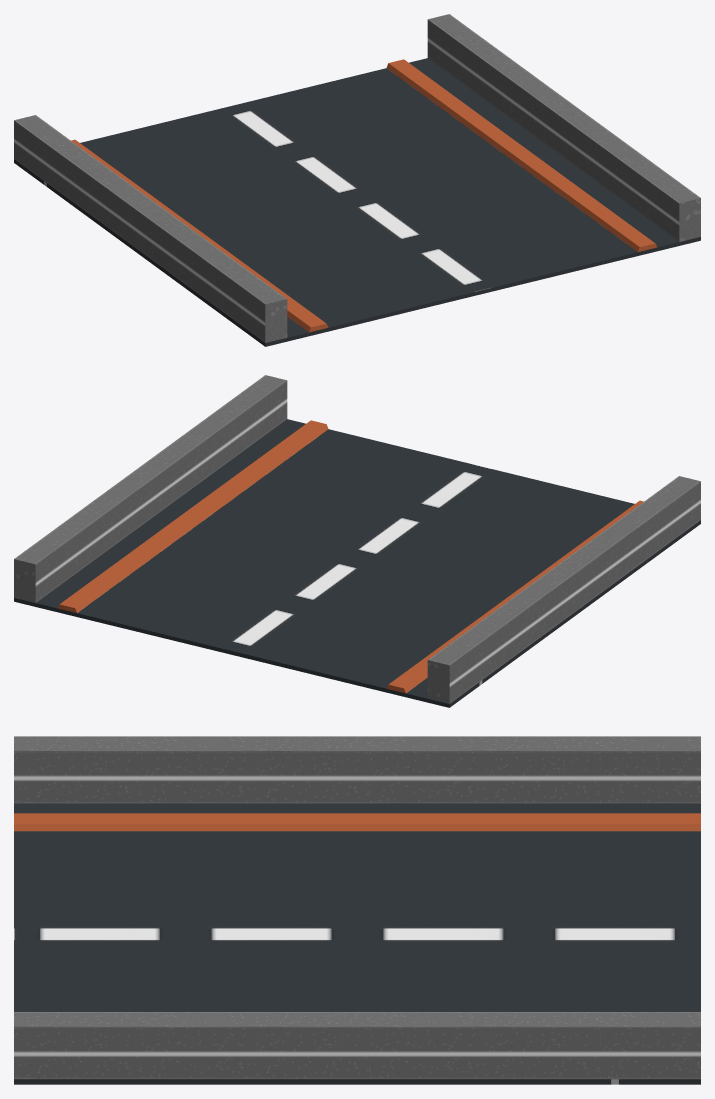
The model's file is kartkids_base_trk_010_rd_straight_1x1.gltf.
The picture shows the model from 3 angles, top to bottom: view 1: azimuth 30°, elevation 25°; view 2: azimuth 150°, elevation 25°; view 3: azimuth 270°, elevation 25°; orthographic projection. The views are drawn at different scales.
Parts seen in each view (by area): view 1: kartkids_base_trk_010_rd_straight_1x1.006, kartkids_base_trk_010_rd_straight_1x1.031; view 2: kartkids_base_trk_010_rd_straight_1x1.006, kartkids_base_trk_010_rd_straight_1x1.031; view 3: kartkids_base_trk_010_rd_straight_1x1.006, kartkids_base_trk_010_rd_straight_1x1.031.
Boxes of the visible parts, x1,y1,x2,y2 form: kartkids_base_trk_010_rd_straight_1x1.006: (14, 58, 700, 346); kartkids_base_trk_010_rd_straight_1x1.031: (14, 14, 700, 342); kartkids_base_trk_010_rd_straight_1x1.006: (14, 419, 700, 707); kartkids_base_trk_010_rd_straight_1x1.031: (14, 375, 700, 703); kartkids_base_trk_010_rd_straight_1x1.006: (14, 803, 700, 1084); kartkids_base_trk_010_rd_straight_1x1.031: (14, 736, 700, 1079).
Size of the model in its own units: 10 by 0.935 by 10.
2 materials, 2 textured.
